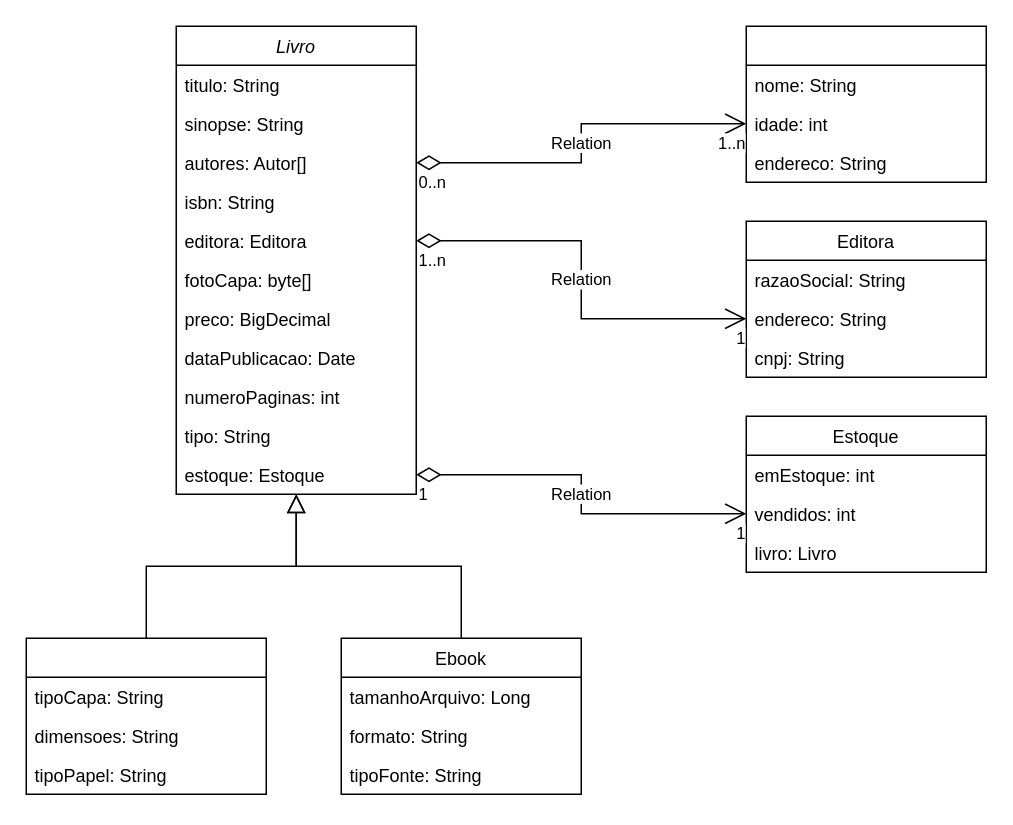
The diagram is 1013 pixels wide and 825 high, and some of its shapes have lost their labels. The shapes that lost their labels are listed below. From the top down, each one's box as (x1, y1, x2, y2) in pixels, then its label:
(745, 25, 986, 182): Autor
(25, 637, 266, 794): LivroFisico
